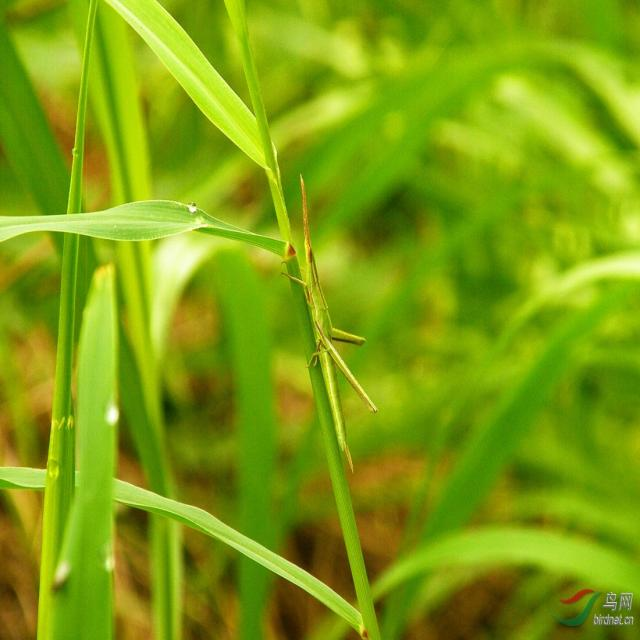ZhaMeng: (289, 164, 380, 480)
